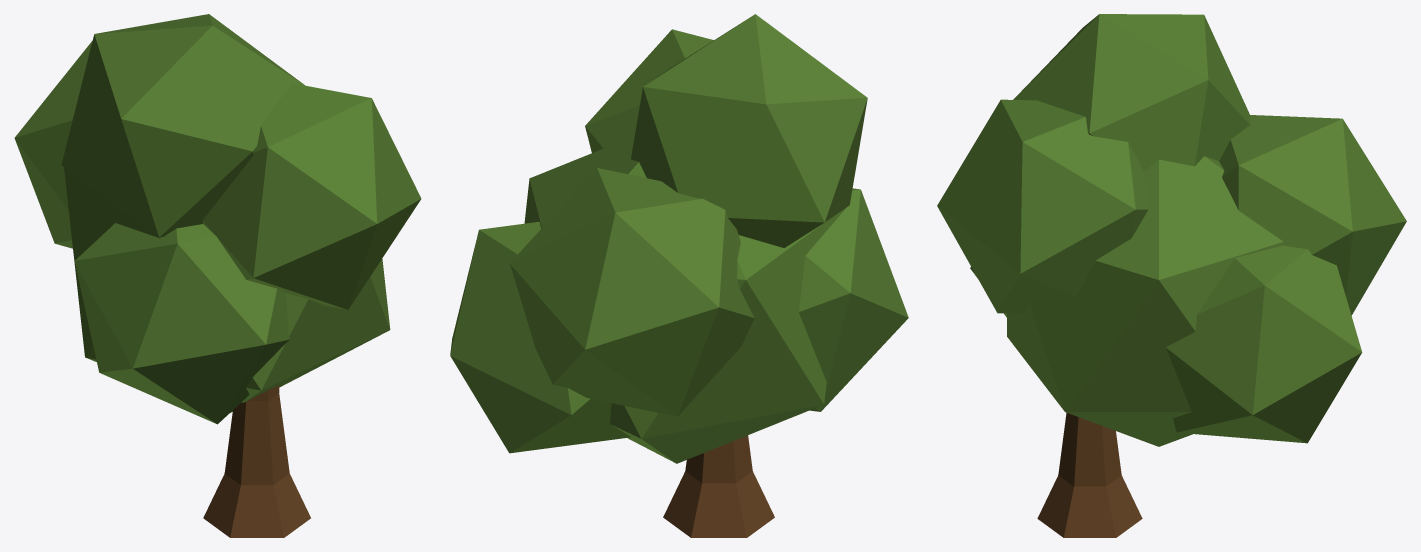
Rendered from Tree1.fbx.
The picture shows the model from 3 angles, left to right: view 1: azimuth 30°, elevation 25°; view 2: azimuth 150°, elevation 25°; view 3: azimuth 270°, elevation 25°; orthographic projection. The views are drawn at different scales.
Parts seen in each view (by area): view 1: Cylinder.003; view 2: Cylinder.003; view 3: Cylinder.003.
Part boxes in pixels (x1,y1,x2,y2): Cylinder.003: (14,14,421,537); Cylinder.003: (450,14,908,537); Cylinder.003: (937,14,1406,537).
Bounding box in the file's own units: 5.13 × 7.43 × 6.52.
